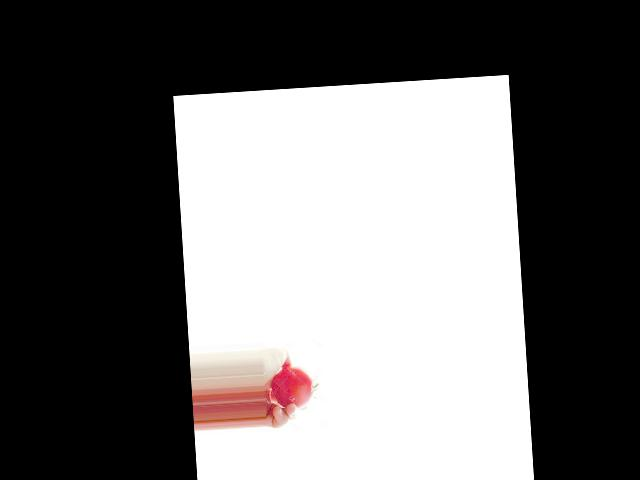tomato: (270, 364, 316, 411)
